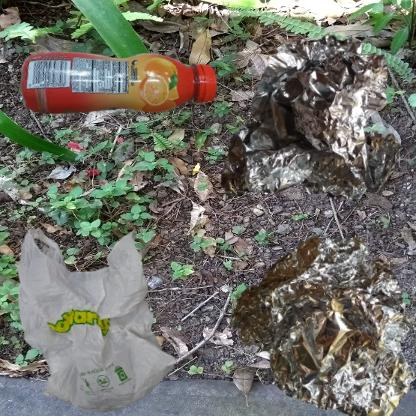aluminio: (213, 10, 416, 259), (213, 213, 416, 416)
bolsa: (10, 213, 186, 416)
botella: (10, 10, 262, 187)
